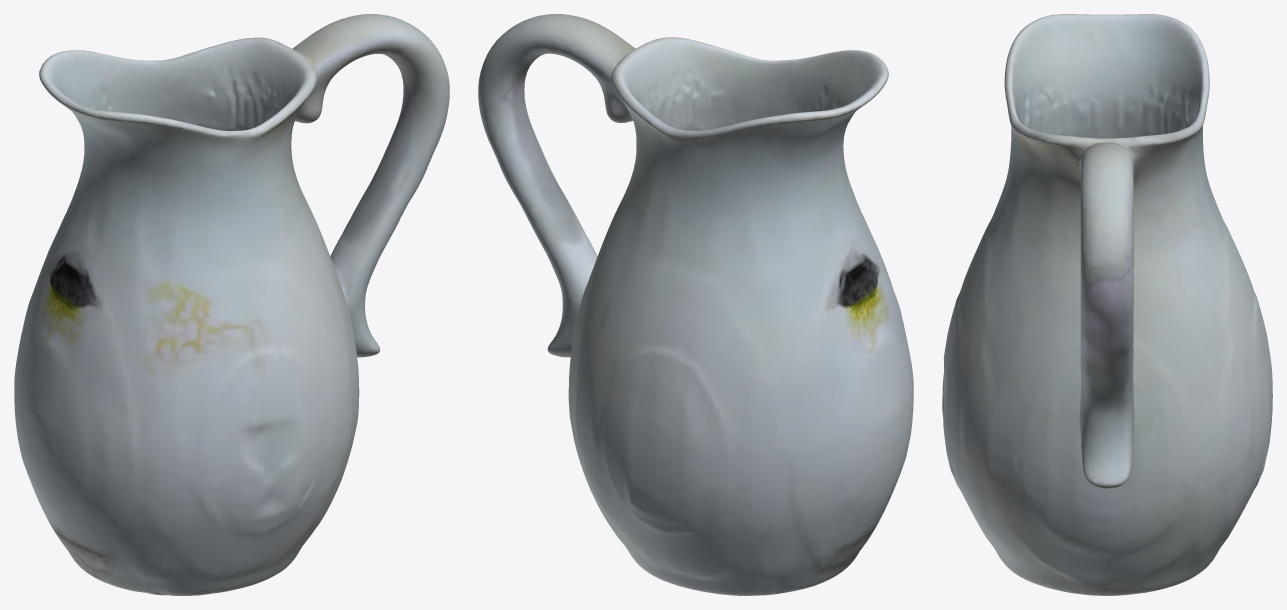
File: Threshold_Porcelain_Pitcher_White.glb
The picture shows the model from 3 angles, left to right: view 1: azimuth 30°, elevation 25°; view 2: azimuth 150°, elevation 25°; view 3: azimuth 270°, elevation 25°; orthographic projection.
Visible parts, largest first — view 1: geometry_0; view 2: geometry_0; view 3: geometry_0.
Part boxes in pixels (box(x1,y1,x2,y2)): geometry_0: box(14, 14, 449, 595); geometry_0: box(478, 14, 913, 595); geometry_0: box(942, 14, 1272, 595).
Size of the model in its own units: 0.8745 by 1 by 0.6231.
1 material, 1 textured.
